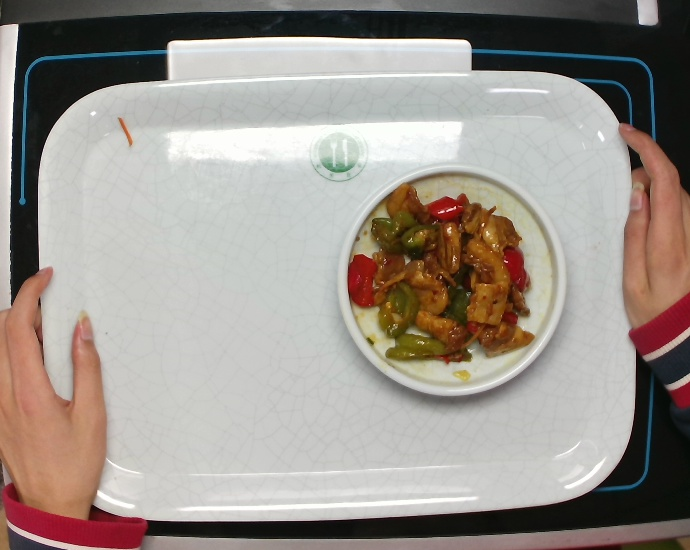JYsf-Xiao_Yuan_Pan: (334, 161, 569, 398)
